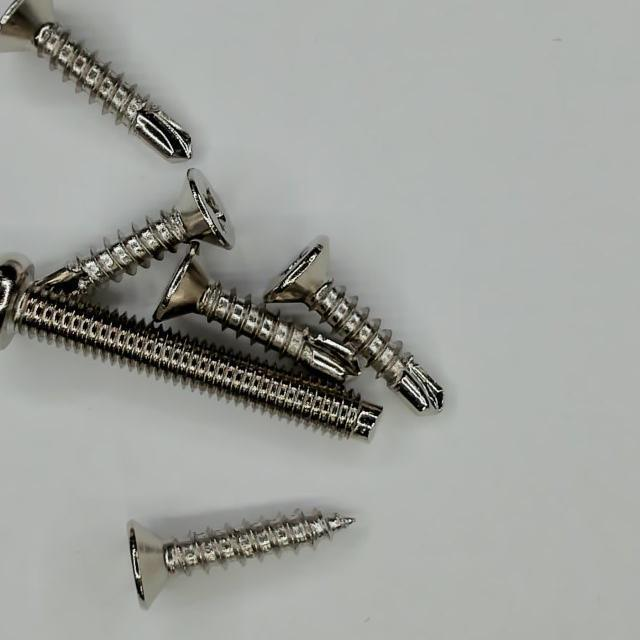Screw: (0, 259, 383, 438), (265, 236, 443, 412), (0, 0, 192, 158), (153, 244, 360, 382), (34, 170, 233, 296), (127, 513, 355, 610)
